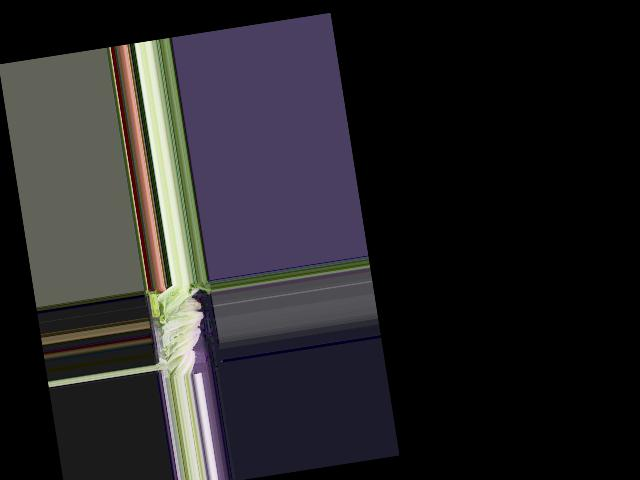lettuce: (166, 346, 199, 378)
